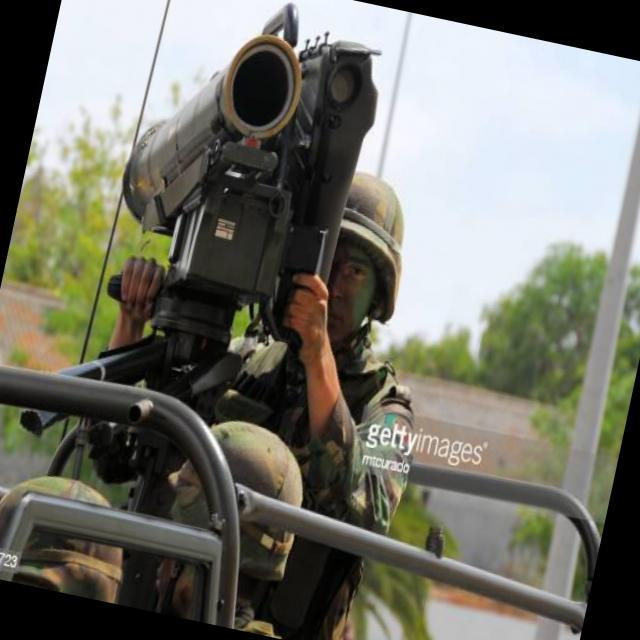rocket: (112, 12, 304, 248)
